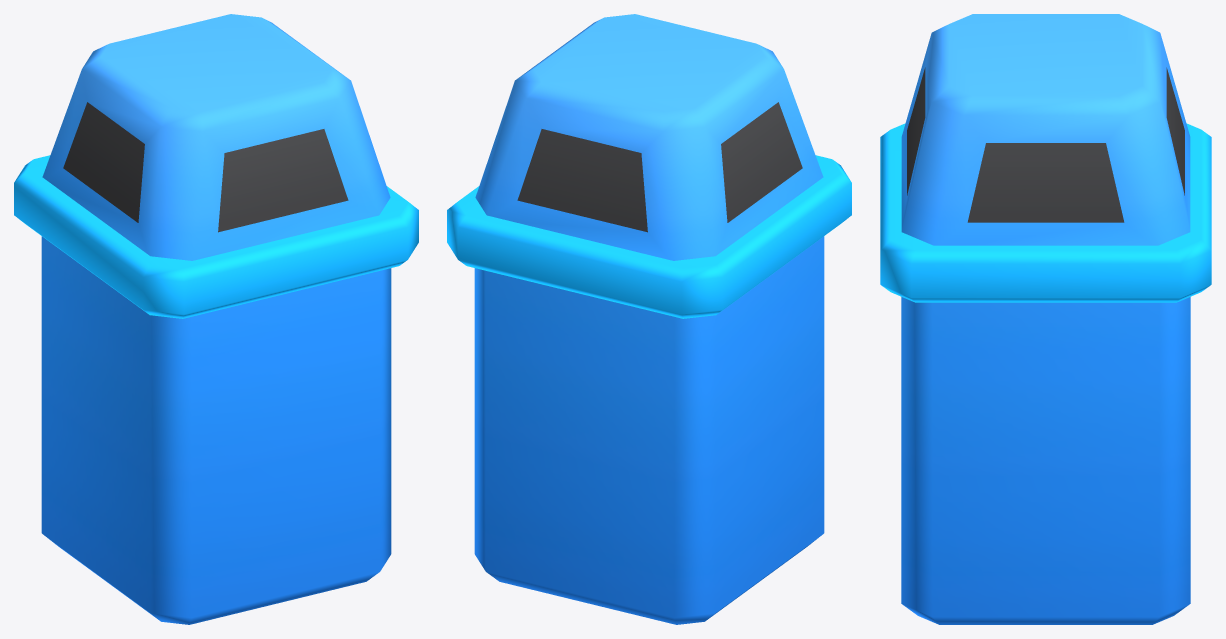
The model's file is city2-trash-can-03.glb.
The picture shows the model from 3 angles, left to right: view 1: azimuth 30°, elevation 25°; view 2: azimuth 150°, elevation 25°; view 3: azimuth 270°, elevation 25°; orthographic projection. The views are drawn at different scales.
Visible parts, largest first — view 1: Trash_Can_03; view 2: Trash_Can_03; view 3: Trash_Can_03.
Boxes of the visible parts, bbox=[...] form: Trash_Can_03: bbox=[14, 14, 418, 624]; Trash_Can_03: bbox=[447, 14, 851, 624]; Trash_Can_03: bbox=[880, 14, 1211, 624].
Size of the model in its own units: 0.5099 by 0.8757 by 0.5099.
Materials: 1 (1 with a texture image).
